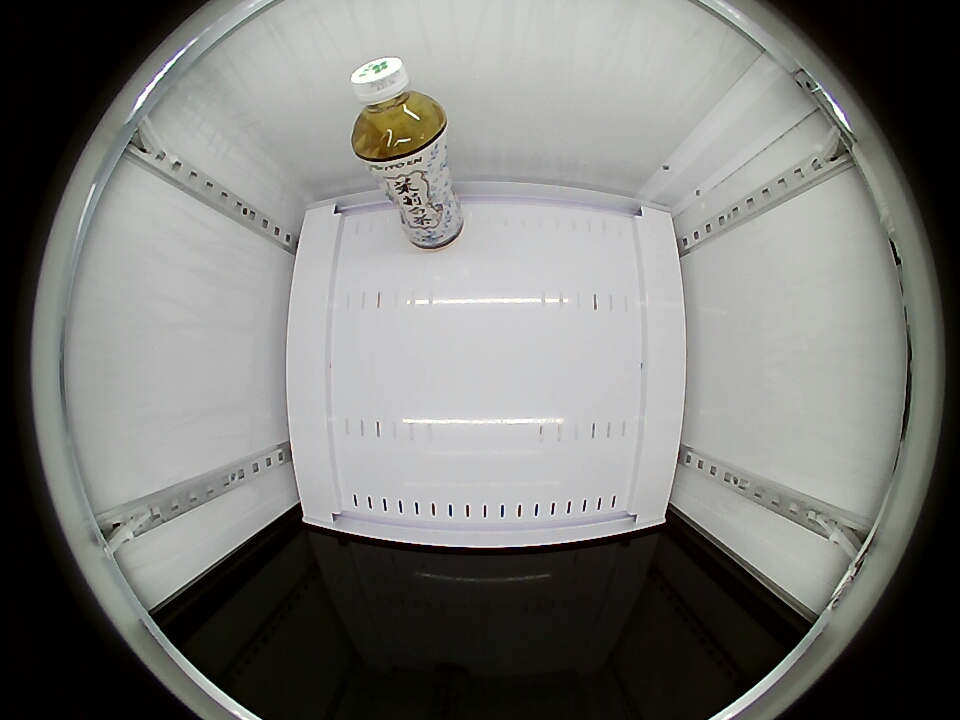baicha: (350, 56, 447, 163)
